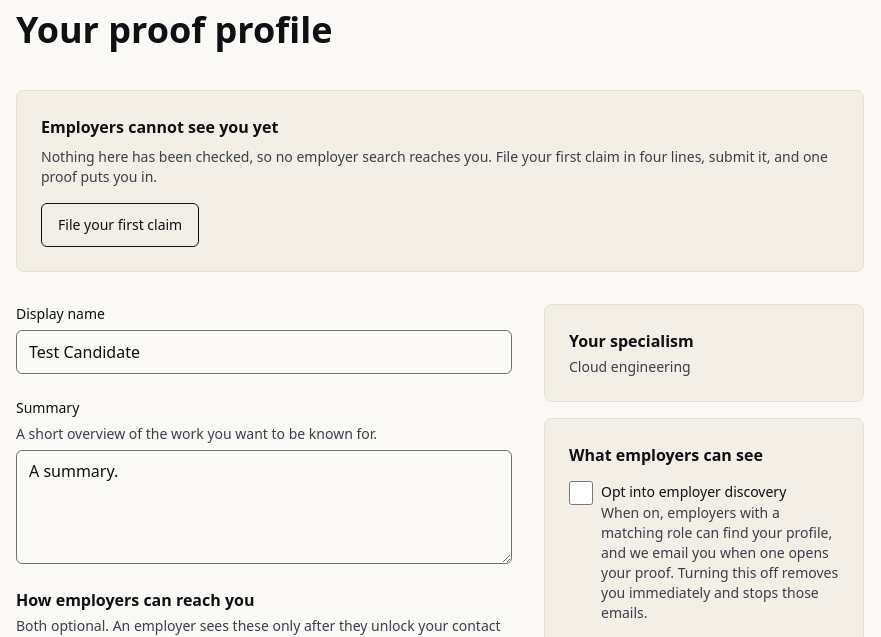
the discovery consent toggle while its request is in flight › disables itself so a second click cannot send a request built on the stale value
Click the checkbox labelled "Opt into employer discovery" at (581, 493), box [569,481,593,505]
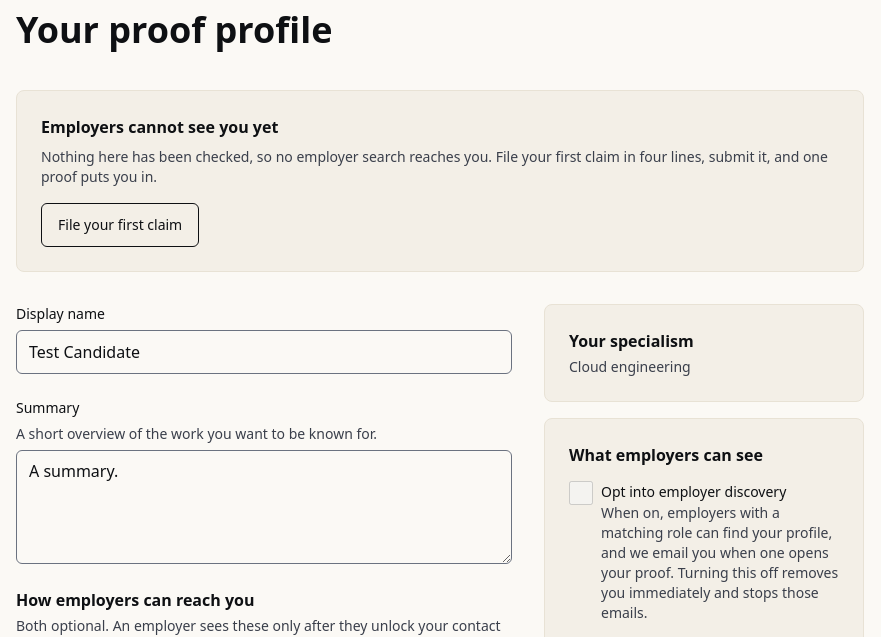
Now the checkbox labelled "Opt into employer discovery" is disabled
// A determined second click must not produce a second request.
Click the checkbox labelled "Opt into employer discovery" at (581, 493), box [569,481,593,505]
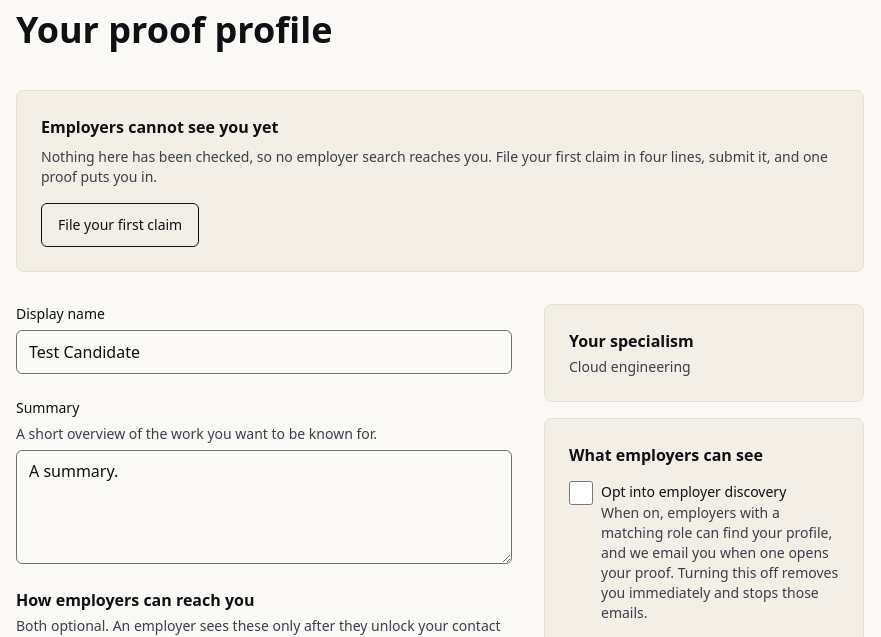
Now the checkbox labelled "Opt into employer discovery" is enabled, box [569,481,593,505]
